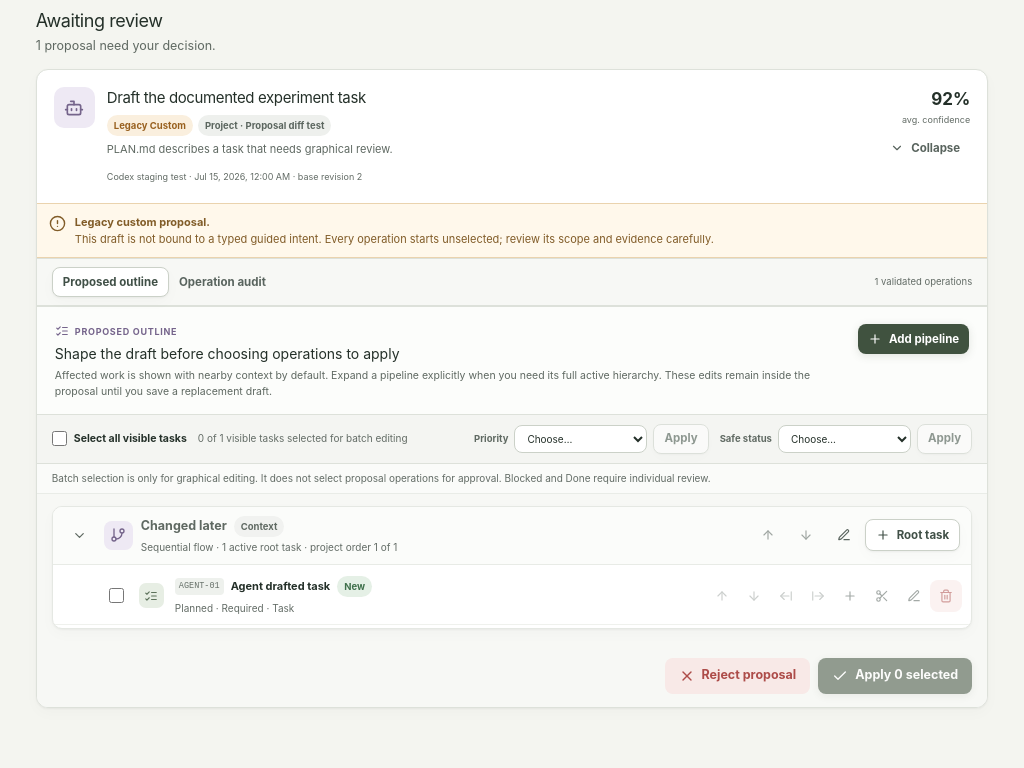
it: ProposalsView immutable diffs › reuses the same reject request ID when retrying the exact reason payload
The width and height of the screenshot is (1024, 768).
Later steps or results of the test are not shown.
(page scrolled)
Click the button "Reject proposal" at (737, 676), box top-left (664, 658), bottom-right (810, 694)
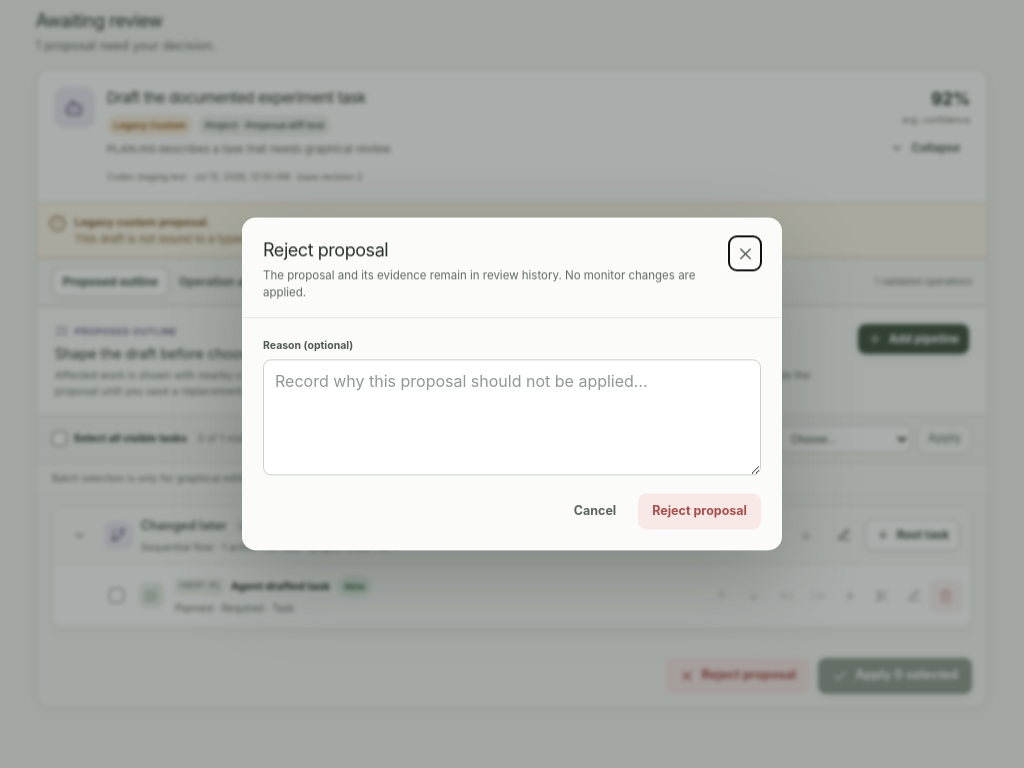
Type "Duplicate task" into the text box labelled "Reason (optional)" at (512, 418), box top-left (263, 360), bottom-right (761, 476)
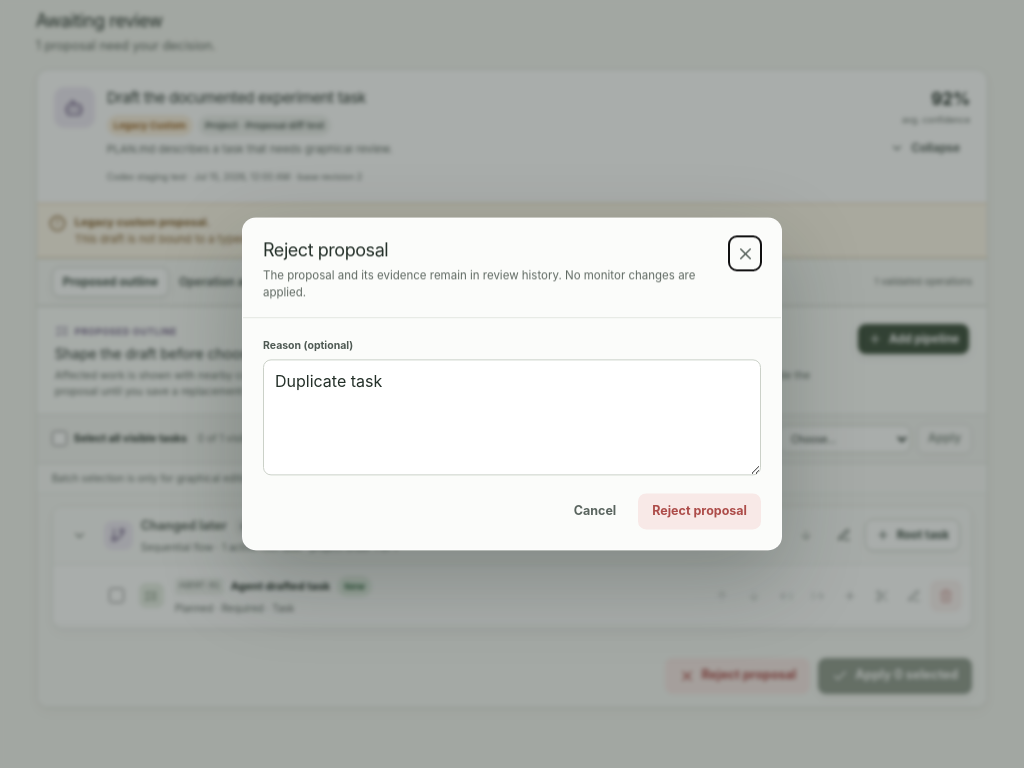
Click the button "Reject proposal" at (700, 512), box top-left (638, 494), bottom-right (761, 530)
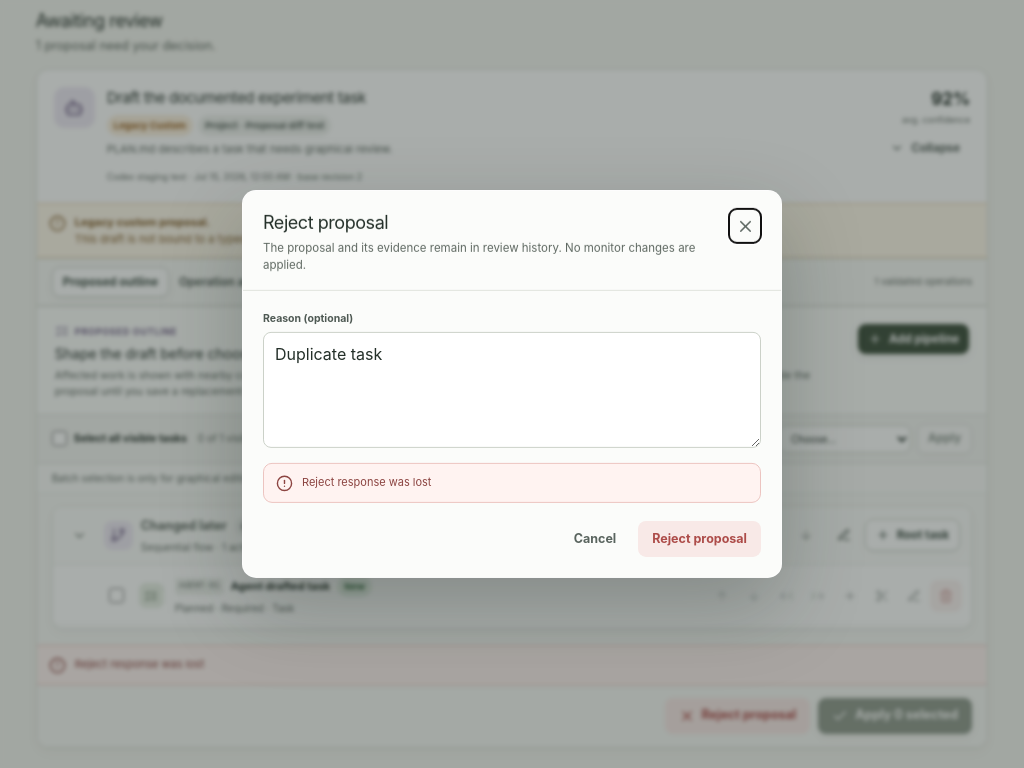
Now the button "Reject proposal" is enabled, box top-left (638, 521), bottom-right (761, 557)
